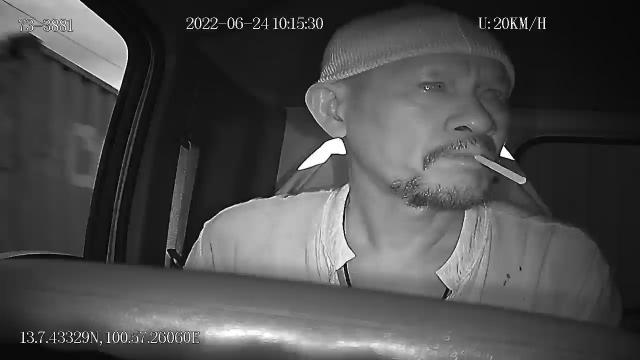SafeDriving: (406, 66, 456, 100)
Smoking: (470, 154, 528, 186)
